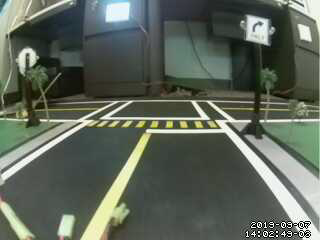Right_only_sign: (245, 15, 274, 47)
